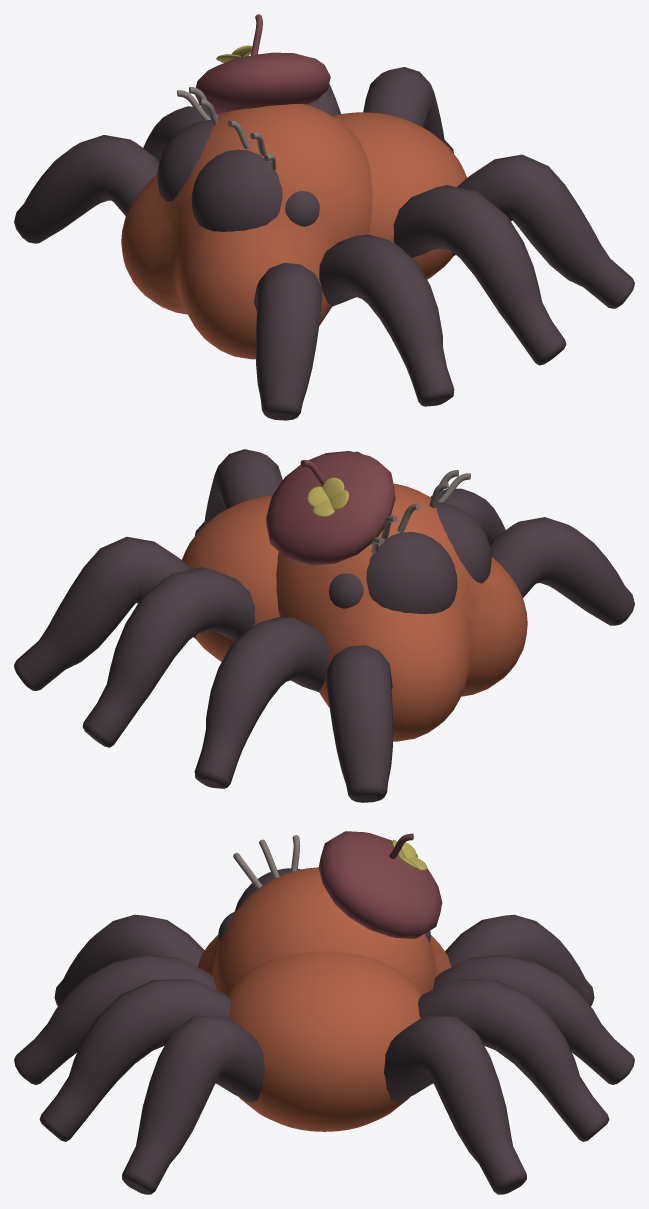
The model's file is Mommy.fbx.
The picture shows the model from 3 angles, top to bottom: view 1: azimuth 30°, elevation 25°; view 2: azimuth 150°, elevation 25°; view 3: azimuth 270°, elevation 25°; orthographic projection.
Visible parts, largest first — view 1: BézierCurve.001; view 2: BézierCurve.001; view 3: BézierCurve.001.
Part boxes in pixels (x1,y1,x2,y2): BézierCurve.001: (14,14,634,420); BézierCurve.001: (14,449,634,802); BézierCurve.001: (14,831,634,1194).
Bounding box in the file's own units: 646 × 407 × 857.
